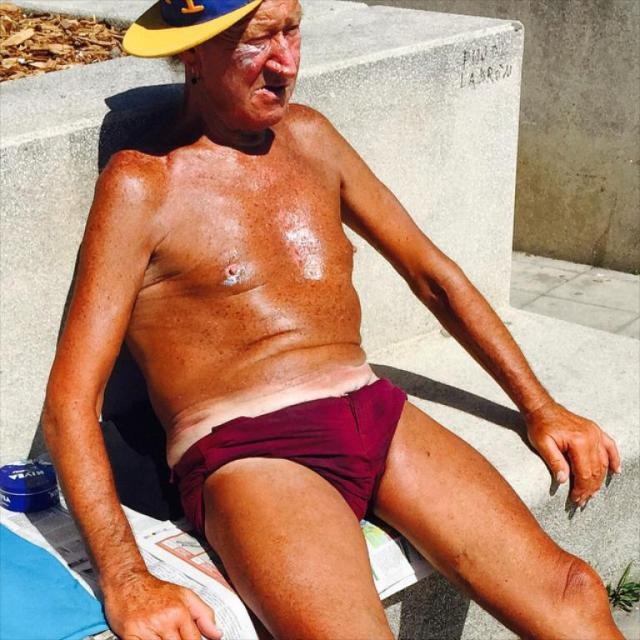Hat: (119, 0, 263, 58)
